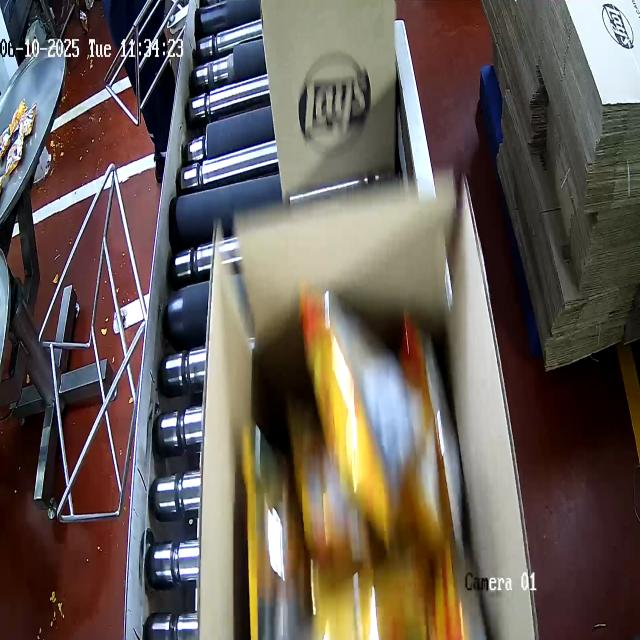FRENCH_CHEESE: (240, 308, 453, 640)
